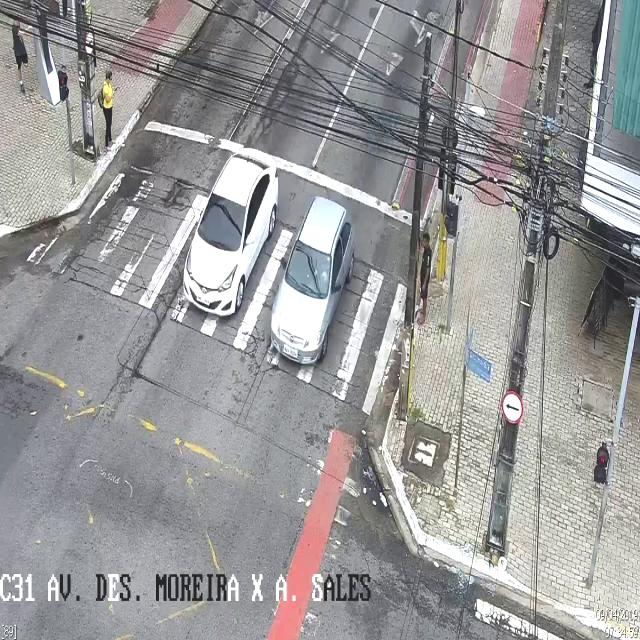Car: (182, 149, 280, 319), (271, 196, 355, 362)
